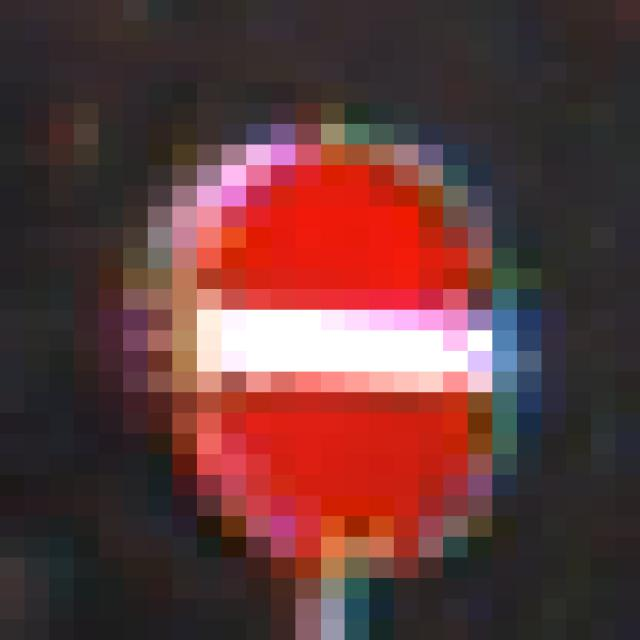No Entry: (124, 125, 518, 538)
